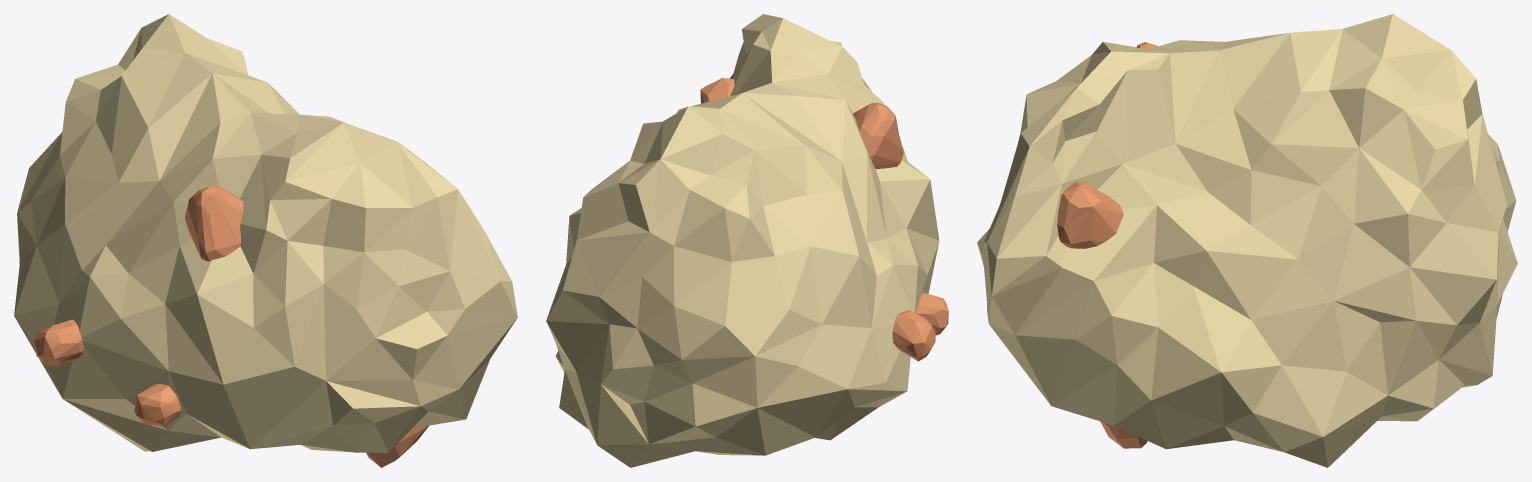
Rendered from StoneOre (7).fbx.
3 renders of one model, left to right at view 1: azimuth 30°, elevation 25°; view 2: azimuth 150°, elevation 25°; view 3: azimuth 270°, elevation 25°, orthographic. The views are drawn at different scales.
Parts seen in each view (by area): view 1: Asteroid294; view 2: Asteroid294; view 3: Asteroid294.
Boxes of the visible parts, left/top/right/bottom form: Asteroid294: left=14, top=14, right=517, bottom=467; Asteroid294: left=546, top=14, right=948, bottom=467; Asteroid294: left=977, top=14, right=1517, bottom=467.
Size of the model in its own units: 557 by 546 by 689.
